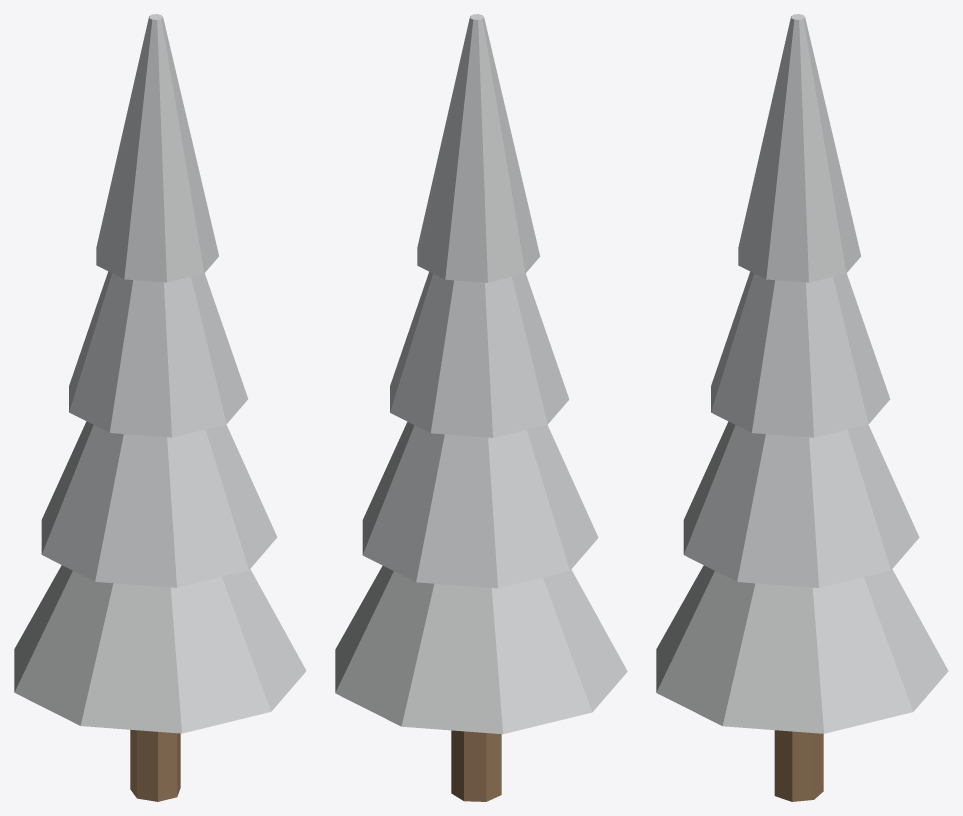
The model's file is conifer_01_snow.glb.
3 renders of one model, left to right at view 1: azimuth 30°, elevation 25°; view 2: azimuth 150°, elevation 25°; view 3: azimuth 270°, elevation 25°, orthographic.
Visible parts, largest first — view 1: conifer_01_snow_needles_1, conifer_01_snow_needles_2, conifer_01_snow_needles_3, conifer_01_snow_needles_4, conifer_01_snow_trunk; view 2: conifer_01_snow_needles_1, conifer_01_snow_needles_2, conifer_01_snow_needles_3, conifer_01_snow_needles_4, conifer_01_snow_trunk; view 3: conifer_01_snow_needles_1, conifer_01_snow_needles_2, conifer_01_snow_needles_3, conifer_01_snow_needles_4, conifer_01_snow_trunk.
Part boxes in pixels (bbox=[...]): conifer_01_snow_needles_1: bbox=[14, 565, 306, 733]; conifer_01_snow_needles_2: bbox=[41, 421, 277, 587]; conifer_01_snow_needles_3: bbox=[69, 271, 247, 437]; conifer_01_snow_needles_4: bbox=[96, 14, 218, 282]; conifer_01_snow_trunk: bbox=[130, 729, 180, 801]; conifer_01_snow_needles_1: bbox=[335, 565, 627, 734]; conifer_01_snow_needles_2: bbox=[362, 421, 598, 588]; conifer_01_snow_needles_3: bbox=[390, 271, 569, 437]; conifer_01_snow_needles_4: bbox=[417, 14, 540, 282]; conifer_01_snow_trunk: bbox=[451, 730, 501, 801]; conifer_01_snow_needles_1: bbox=[656, 565, 948, 733]; conifer_01_snow_needles_2: bbox=[683, 421, 919, 587]; conifer_01_snow_needles_3: bbox=[711, 271, 890, 437]; conifer_01_snow_needles_4: bbox=[738, 14, 860, 282]; conifer_01_snow_trunk: bbox=[774, 730, 823, 801].
Bounding box in the file's own units: 2.07 × 5.95 × 2.04.
